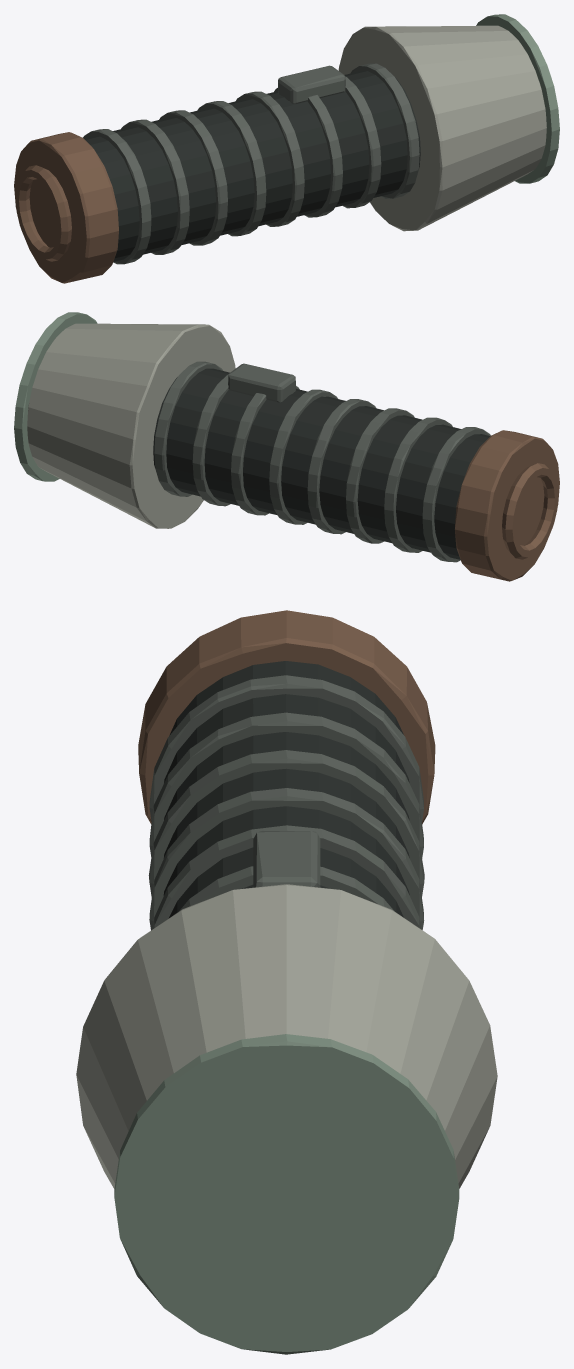
Rendered from flashlight_low.glb.
The picture shows the model from 3 angles, top to bottom: view 1: azimuth 30°, elevation 25°; view 2: azimuth 150°, elevation 25°; view 3: azimuth 270°, elevation 25°; orthographic projection. The views are drawn at different scales.
Visible parts, largest first — view 1: flashlight.001; view 2: flashlight.001; view 3: flashlight.001.
Part boxes in pixels (bbox=[...]): flashlight.001: bbox=[14, 14, 559, 283]; flashlight.001: bbox=[14, 312, 559, 581]; flashlight.001: bbox=[76, 610, 497, 1354].
Bounding box in the file's own units: 0.3125 × 0.1192 × 0.1191.
